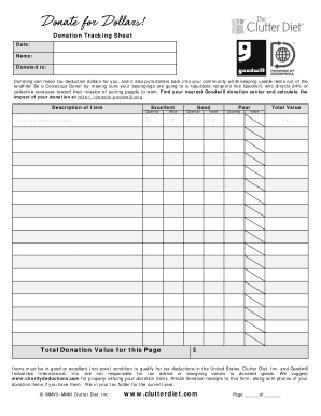textbox: (9, 226, 147, 247), (9, 240, 147, 260), (9, 303, 147, 323), (10, 214, 147, 234), (10, 253, 147, 273), (10, 188, 147, 207), (11, 266, 145, 285), (9, 202, 147, 220), (10, 175, 147, 193), (10, 291, 147, 309), (11, 163, 147, 181), (11, 124, 145, 142), (9, 137, 147, 154), (10, 150, 147, 167), (10, 318, 147, 335), (10, 330, 147, 347), (189, 343, 310, 361), (51, 61, 179, 78), (11, 280, 145, 296), (11, 112, 144, 127), (52, 51, 180, 66), (52, 38, 179, 53), (262, 162, 311, 181), (262, 253, 311, 272), (263, 317, 313, 335), (263, 330, 313, 348), (263, 228, 310, 247), (262, 150, 311, 168), (262, 304, 311, 322), (262, 137, 310, 155), (262, 291, 310, 309), (263, 214, 310, 232), (262, 177, 311, 194), (262, 124, 310, 141), (262, 202, 310, 219), (263, 241, 311, 258), (262, 266, 310, 283), (263, 279, 311, 296), (263, 111, 310, 128), (263, 189, 310, 206), (220, 239, 248, 259), (181, 213, 208, 233), (140, 265, 166, 285), (221, 266, 248, 285), (200, 317, 228, 335), (222, 213, 247, 233), (222, 253, 247, 273), (140, 227, 166, 246), (181, 227, 207, 246), (202, 176, 228, 195), (200, 253, 226, 272), (222, 227, 248, 246), (161, 124, 188, 142), (181, 317, 208, 335), (200, 150, 227, 168), (200, 304, 227, 322), (221, 189, 248, 207), (162, 252, 186, 272), (141, 240, 166, 259), (141, 253, 166, 272), (161, 316, 186, 335), (182, 266, 207, 285), (222, 175, 247, 194), (140, 214, 166, 232), (140, 317, 166, 335), (160, 150, 186, 168), (181, 136, 207, 154), (181, 176, 207, 194), (181, 304, 207, 322), (222, 304, 248, 322), (161, 110, 185, 129), (161, 227, 185, 246), (162, 266, 186, 285), (182, 123, 206, 142), (182, 240, 206, 259), (182, 253, 206, 272), (203, 214, 227, 233), (141, 124, 166, 142), (141, 150, 166, 168), (141, 163, 166, 181), (141, 291, 166, 309), (161, 202, 186, 220), (181, 163, 206, 181), (182, 291, 207, 309), (202, 291, 227, 309), (222, 149, 247, 167), (222, 163, 247, 181), (222, 291, 247, 309), (140, 202, 166, 219), (181, 151, 207, 168), (181, 189, 207, 206), (200, 241, 226, 258), (200, 330, 226, 347), (221, 318, 247, 335), (162, 214, 185, 233), (141, 111, 165, 129), (141, 176, 165, 194), (139, 331, 166, 347), (162, 291, 186, 309), (161, 304, 185, 322), (202, 227, 226, 245), (140, 189, 165, 206), (141, 305, 166, 322), (161, 137, 186, 154), (161, 279, 186, 296), (222, 279, 247, 296), (221, 330, 246, 347), (140, 280, 166, 296), (162, 176, 185, 194), (162, 240, 185, 258), (203, 163, 226, 181), (141, 137, 165, 154), (182, 202, 206, 219), (183, 330, 207, 347), (202, 124, 226, 141), (202, 202, 226, 219), (223, 124, 247, 141), (223, 202, 247, 219), (202, 267, 227, 283), (203, 111, 225, 129), (162, 164, 185, 181), (162, 189, 185, 206), (182, 111, 205, 128), (203, 189, 226, 206), (203, 279, 226, 296), (223, 111, 246, 128), (223, 137, 246, 154), (162, 330, 186, 346), (182, 279, 206, 295), (203, 138, 226, 154)
textline: (265, 390, 281, 400), (245, 391, 258, 400)
